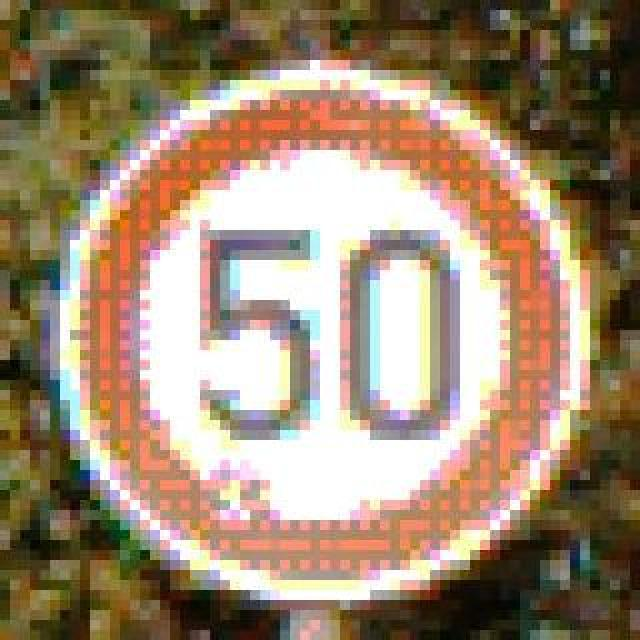50 kph: (40, 50, 580, 590)
